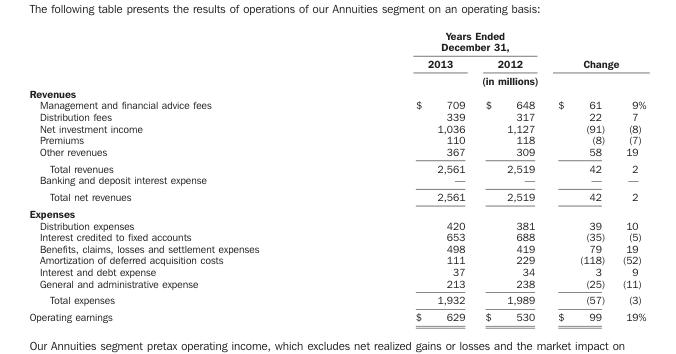table: (28, 28, 645, 322)
table column: (28, 28, 336, 322), (336, 28, 474, 322), (474, 28, 545, 322), (545, 28, 613, 322), (613, 28, 645, 322)
table column header: (28, 28, 645, 86)
table projected row header: (28, 204, 645, 218), (28, 86, 645, 98)
table row: (28, 28, 645, 54), (28, 54, 645, 71), (28, 187, 645, 204), (28, 291, 645, 308), (28, 71, 645, 86), (28, 145, 645, 159), (28, 159, 645, 173), (28, 173, 645, 187), (28, 204, 645, 218), (28, 277, 645, 291), (28, 308, 645, 322), (28, 86, 645, 98), (28, 98, 645, 110), (28, 110, 645, 122), (28, 133, 645, 145), (28, 218, 645, 230), (28, 230, 645, 242), (28, 253, 645, 265), (28, 265, 645, 277), (28, 122, 645, 133), (28, 242, 645, 253)
table spanning cell: (336, 28, 545, 54), (545, 28, 645, 71), (336, 71, 613, 86)
